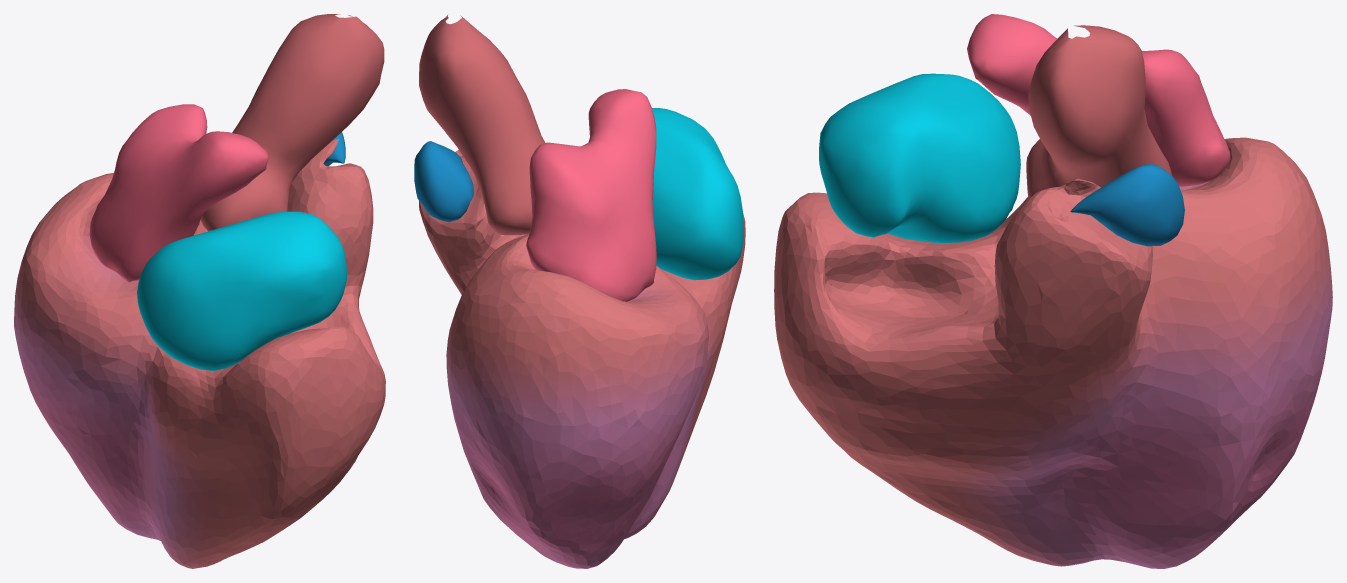
File: frame_6.glb
The picture shows the model from 3 angles, left to right: view 1: azimuth 30°, elevation 25°; view 2: azimuth 150°, elevation 25°; view 3: azimuth 270°, elevation 25°; orthographic projection. The views are drawn at different scales.
Visible parts, largest first — view 1: Renderer Node; view 2: Renderer Node; view 3: Renderer Node.
Boxes of the visible parts, x1,y1,x2,y2 form: Renderer Node: [14, 14, 385, 568]; Renderer Node: [414, 15, 745, 568]; Renderer Node: [774, 14, 1332, 568].
Size of the model in its own units: 101 by 158 by 126.
